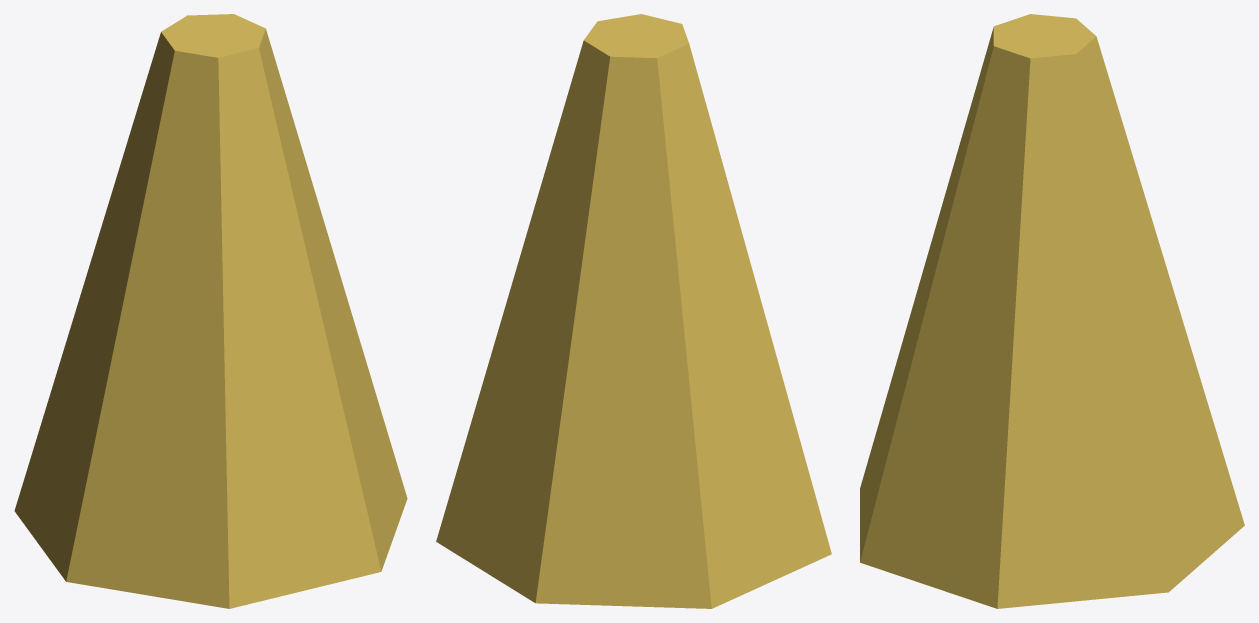
File: snopek.glb
3 views of the same model, side by side, from view 1: azimuth 30°, elevation 25°; view 2: azimuth 150°, elevation 25°; view 3: azimuth 270°, elevation 25° (orthographic).
Parts seen in each view (by area): view 1: snopek; view 2: snopek; view 3: snopek.
Part boxes in pixels (x1,y1,x2,y2): snopek: (14, 14, 407, 608); snopek: (436, 14, 831, 608); snopek: (860, 14, 1244, 608).
Size of the model in its own units: 0.585 by 0.8 by 0.5703.
